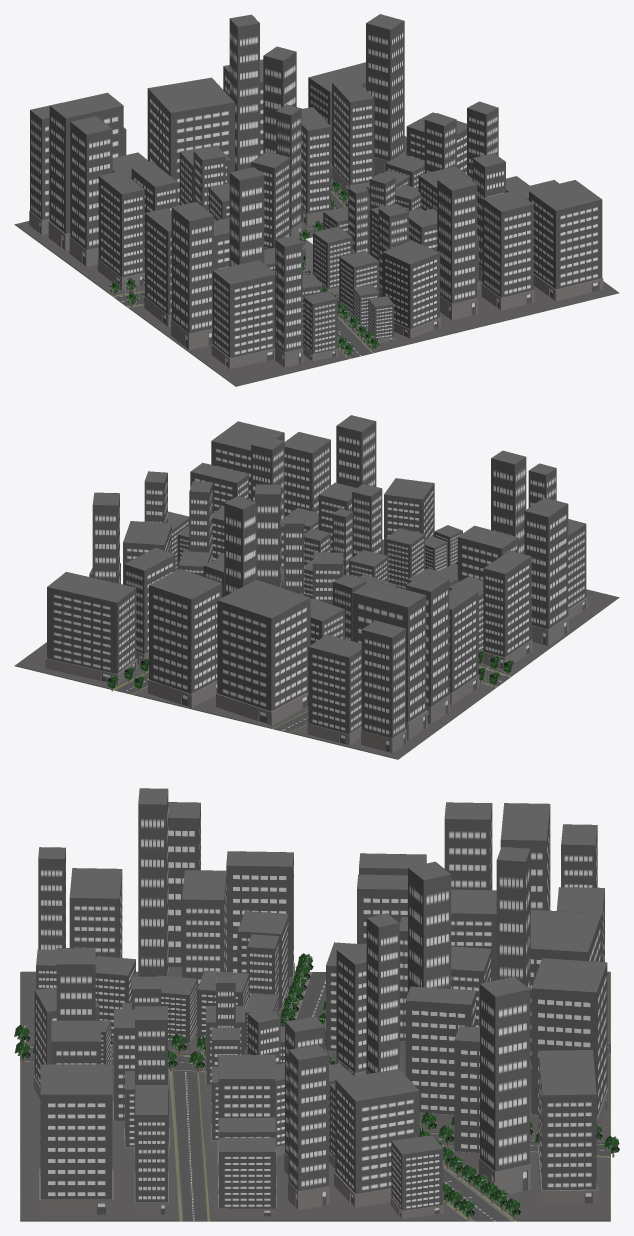
Rendered from city_prisma_3d.gltf.
3 renders of one model, top to bottom at view 1: azimuth 30°, elevation 25°; view 2: azimuth 150°, elevation 25°; view 3: azimuth 270°, elevation 25°, orthographic. The views are drawn at different scales.
Visible parts, largest first — view 1: Object_7, Object_4, Object_5, Object_6, Object_2, Object_11, Object_10; view 2: Object_7, Object_5, Object_4, Object_2, Object_10, Object_11; view 3: Object_7, Object_4, Object_2, Object_5, Object_11, Object_6, Object_10, Object_12.
Part boxes in pixels (box(x1,y1,x2,y2)): Object_7: box(30, 14, 602, 366); Object_4: box(15, 136, 618, 386); Object_5: box(29, 152, 405, 368); Object_6: box(144, 250, 603, 343); Object_2: box(14, 190, 619, 386); Object_11: box(109, 200, 378, 353); Object_10: box(110, 176, 379, 355); Object_7: box(47, 415, 586, 752); Object_5: box(45, 569, 587, 753); Object_4: box(15, 539, 618, 759); Object_2: box(14, 597, 619, 759); Object_10: box(106, 654, 513, 688); Object_11: box(107, 561, 514, 685); Object_7: box(34, 788, 607, 1216); Object_4: box(21, 971, 609, 1221); Object_2: box(20, 972, 610, 1221); Object_5: box(113, 967, 608, 1218); Object_11: box(14, 953, 619, 1213); Object_6: box(33, 963, 294, 1214); Object_10: box(17, 959, 619, 1216); Object_12: box(189, 1051, 538, 1179).
Bounding box in the file's own units: 102 × 45.76 × 103.
Materials: 9 (3 with a texture image).
